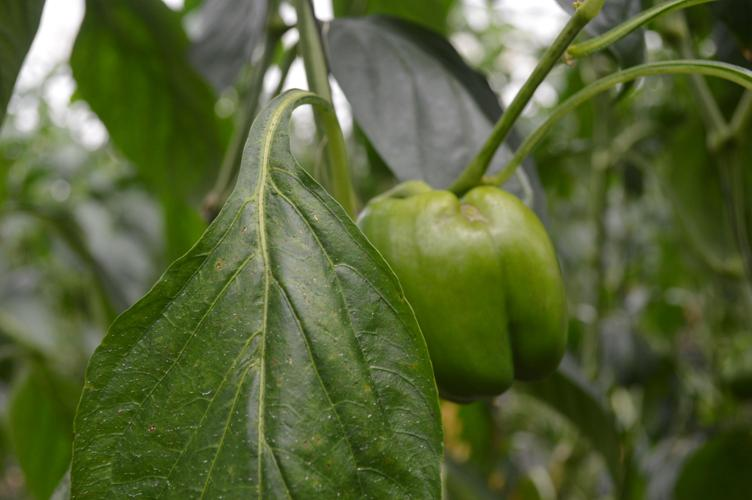BellPepper: (359, 187, 566, 401)
